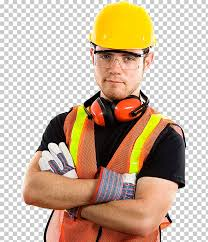Person_wearing_helmet: (81, 0, 154, 69)
